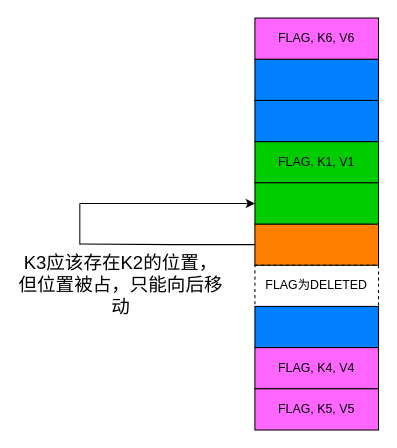
Some shapes in this 397 by 448 pixel diagram are drawn without their labels. The centre of each missing label's shape, as x and y in pixels:
FLAG, K2, V2: pixel 316 203
FLAG, K3, V3: pixel 316 244
